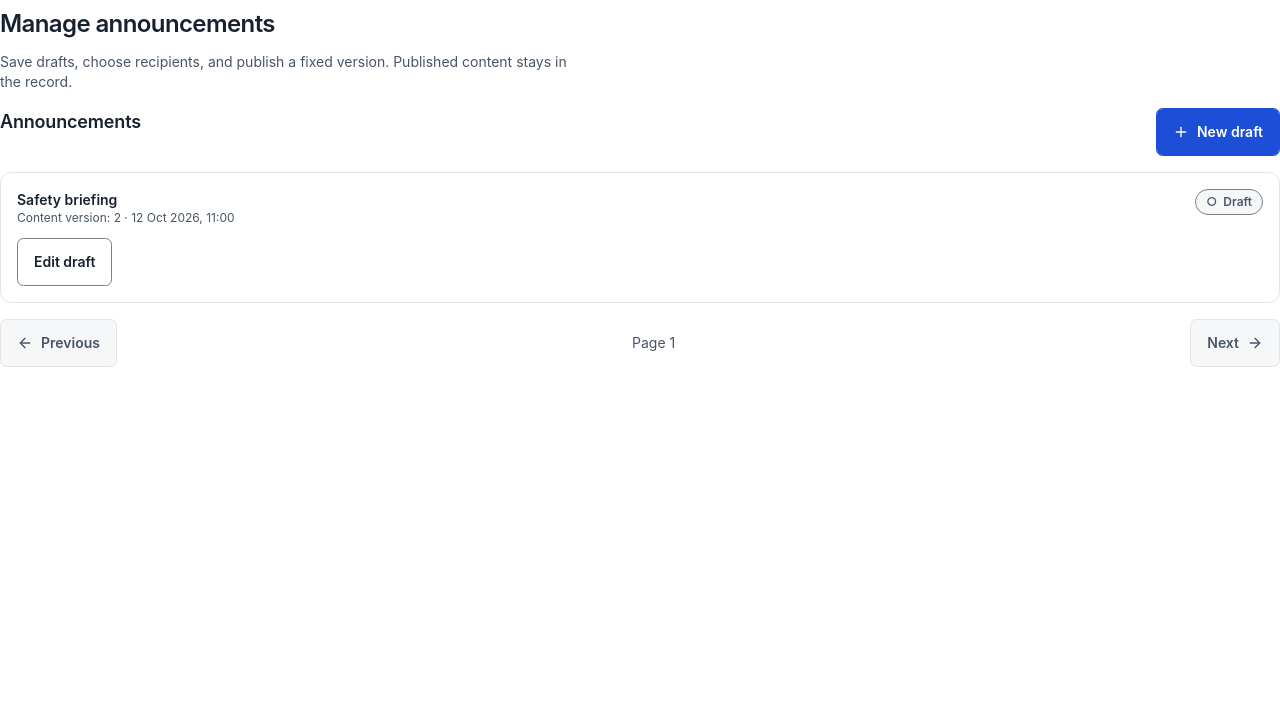
Test: guards an in-flight publication but allows navigation after an uncertain result while preserving retry
This screenshot has width=1280, height=712.
Click the button "Edit draft": (65, 262) [17, 238, 112, 286]
(page scrolled)
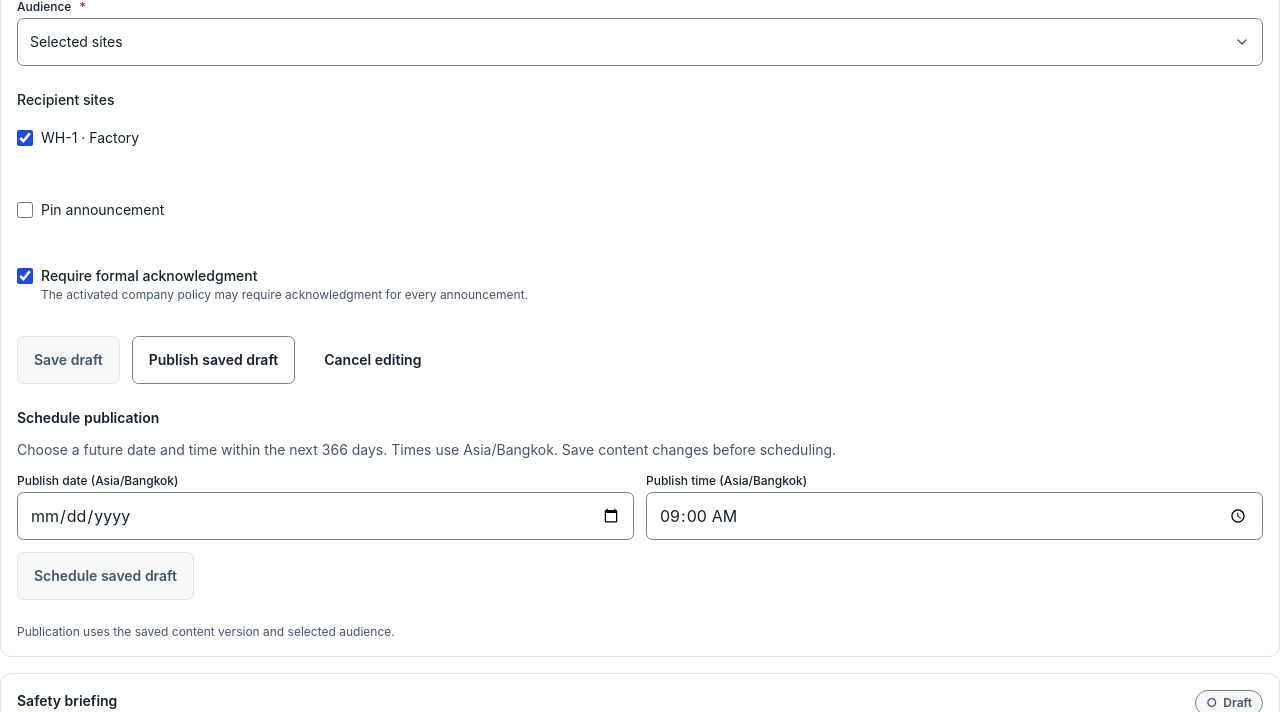
Click the button "Publish saved draft": (214, 360) [132, 336, 295, 384]
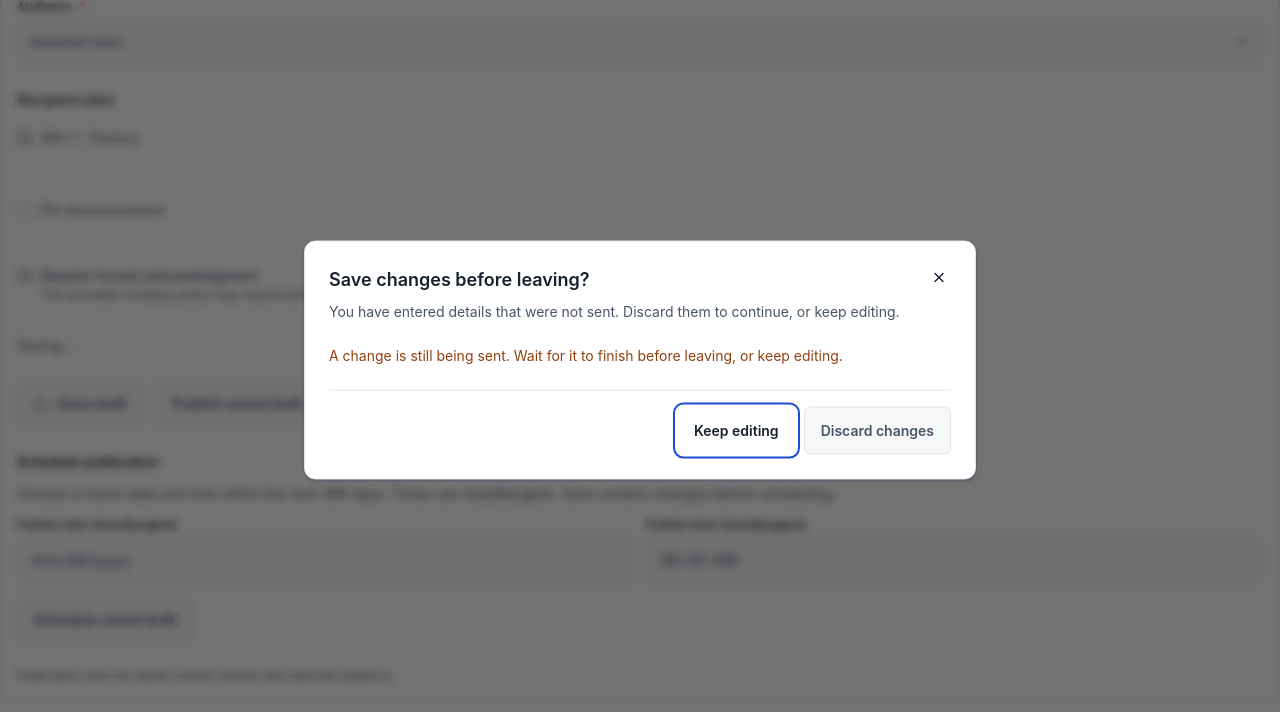
Check: the message with test id "navigation-guard-pending" is shown, box [329, 346, 843, 364]
Click the button "Keep editing": (736, 430) [677, 406, 796, 454]
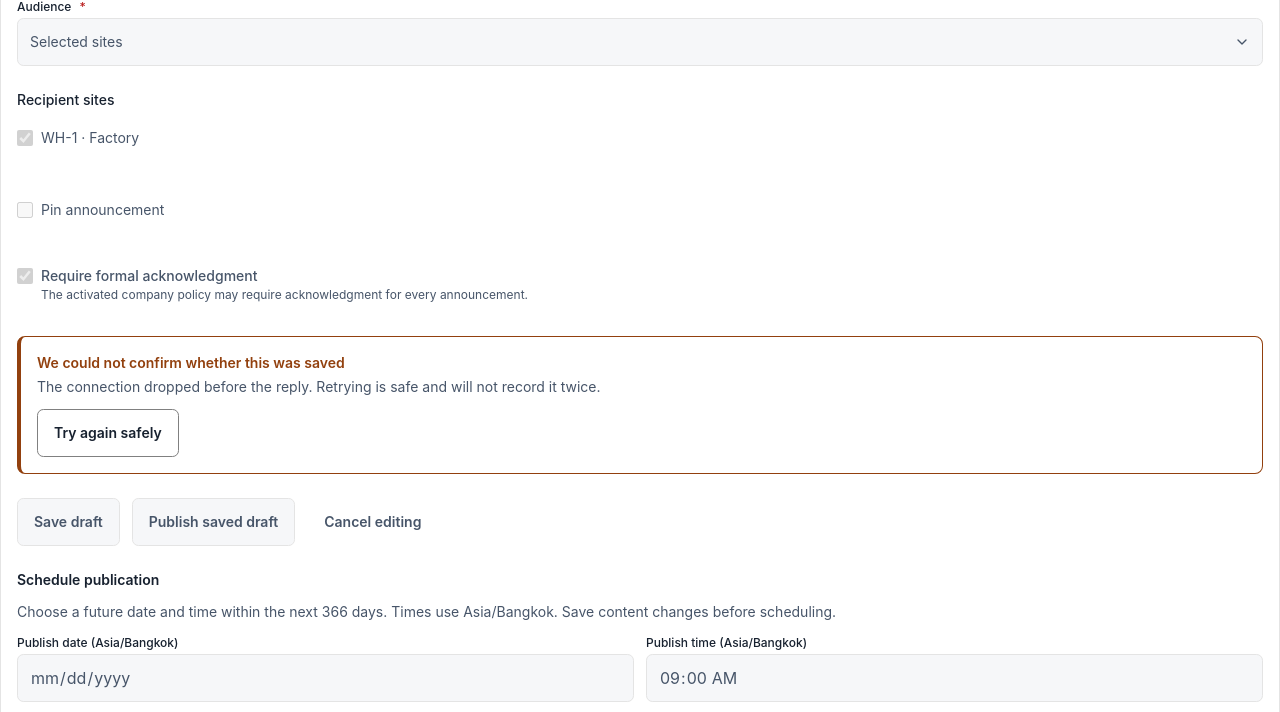
Check: the message with test id "hr-write-uncertain" is shown, box [17, 336, 1263, 474]
Check: the button "Try again safely" is enabled, box [37, 409, 179, 457]
